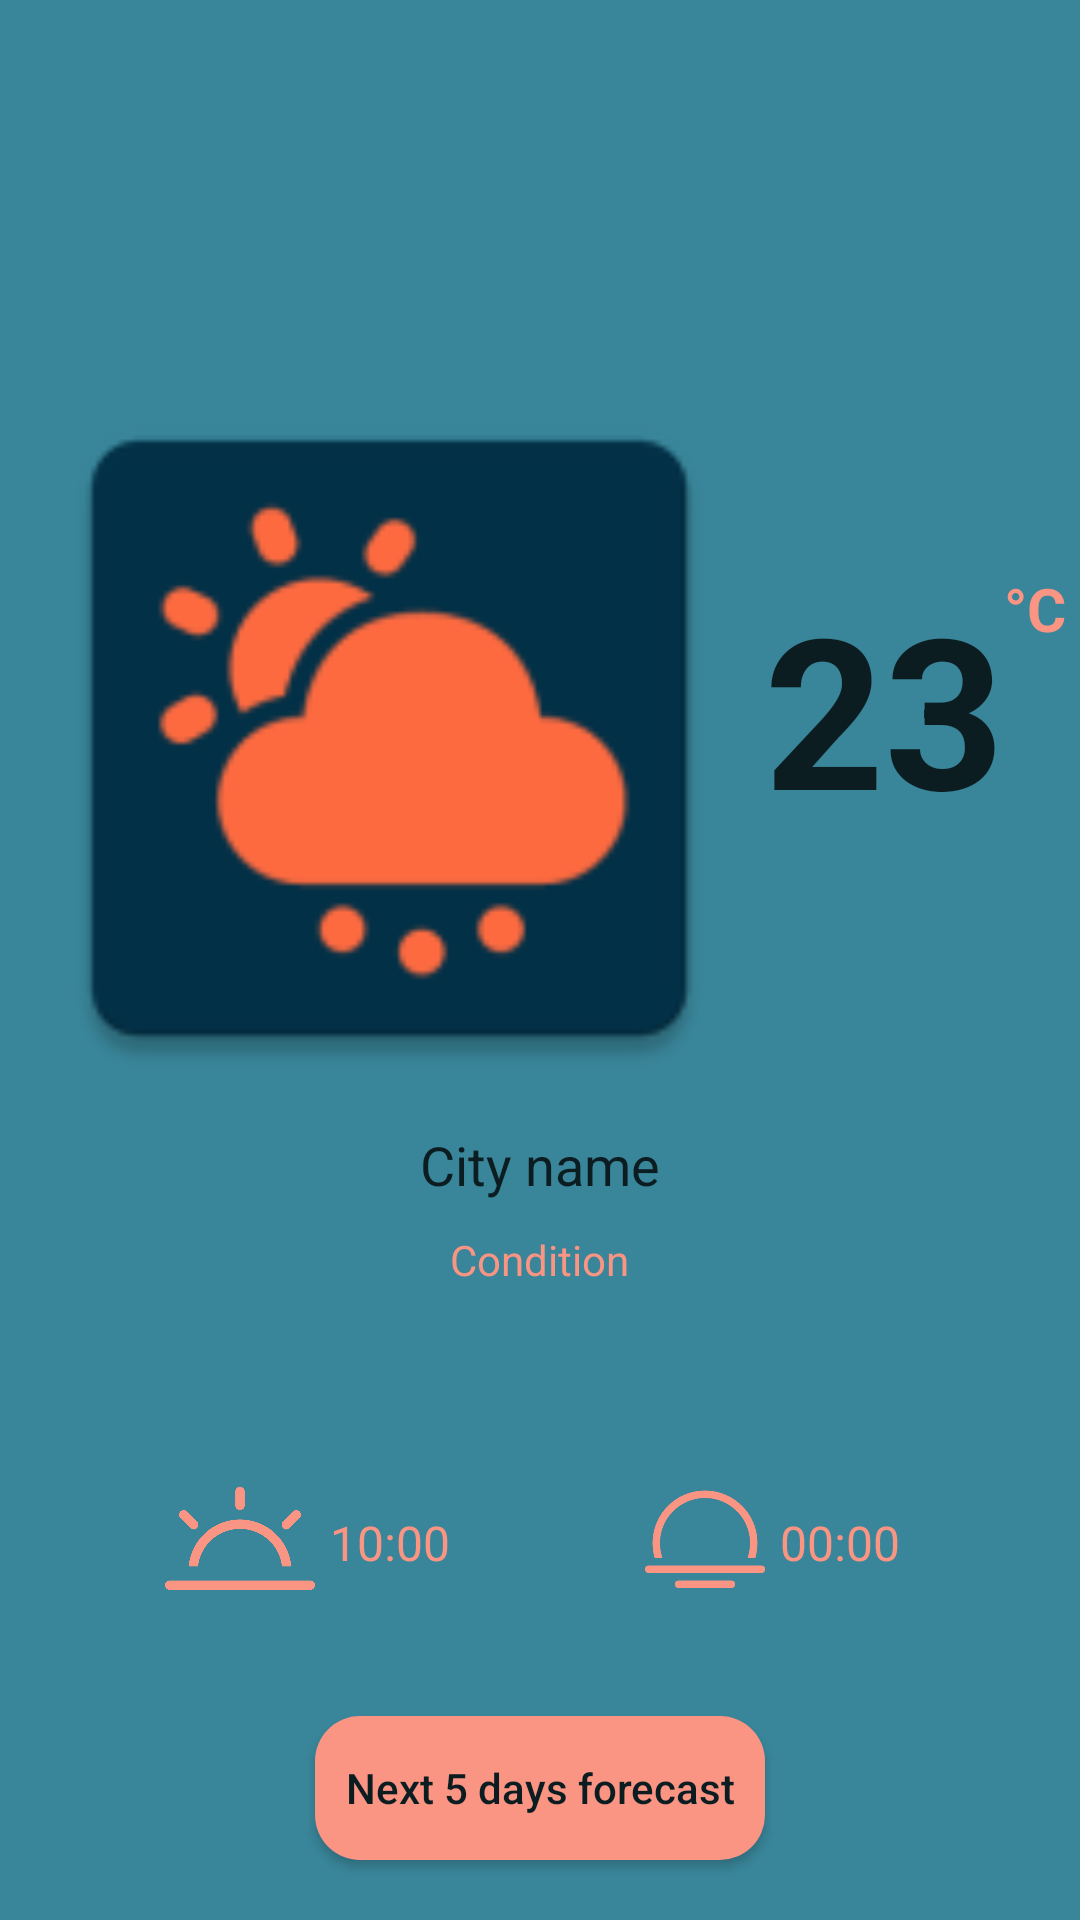

Named icons in this screenshot (1080 × 1920) and their centers, (x=x, y=y):
ep sunrise: (x=240, y=1538)
ep sunset: (x=705, y=1539)
